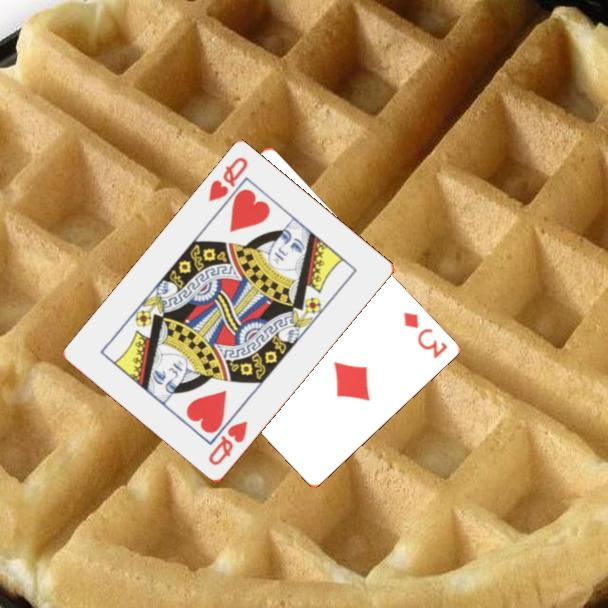d03: (399, 308, 450, 361)
h12: (205, 417, 251, 469), (205, 154, 251, 205)
